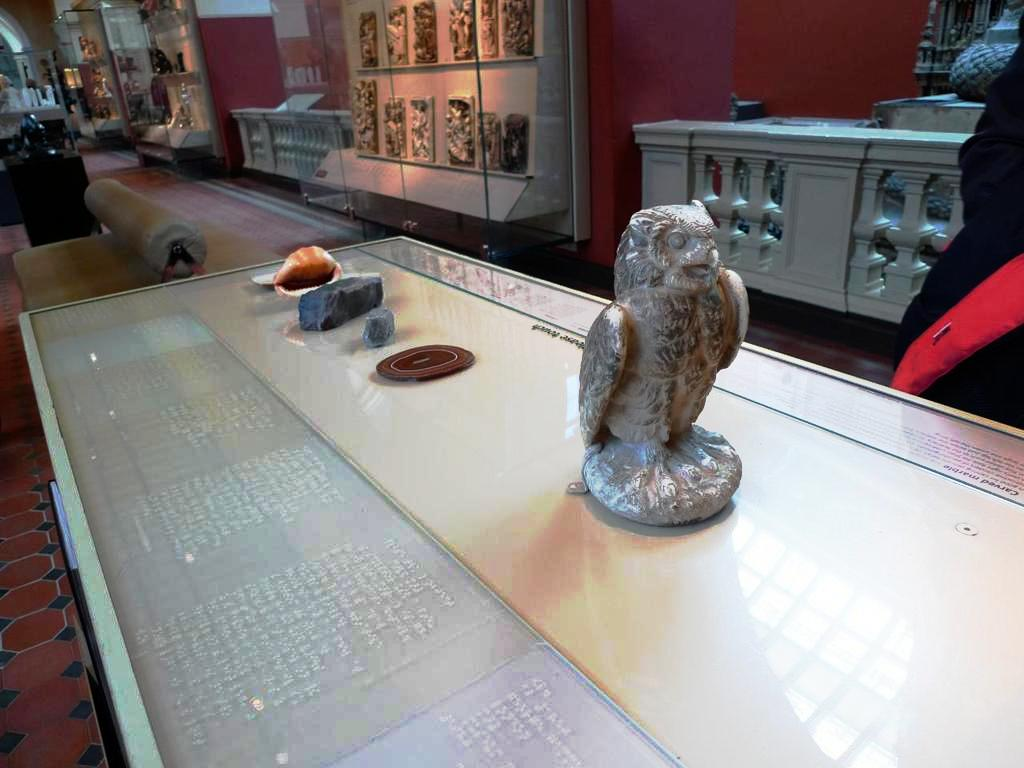Owl: (570, 198, 756, 496)
